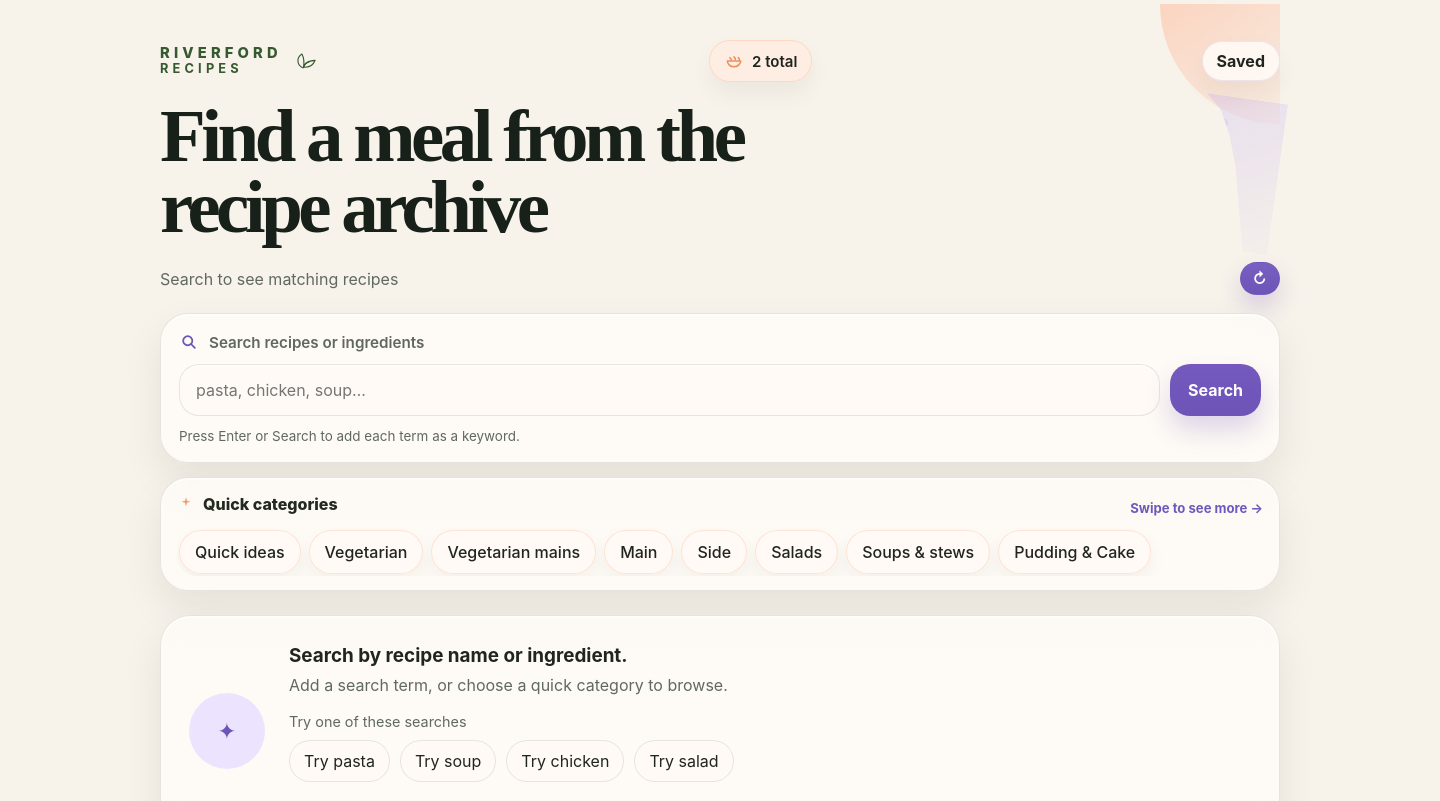
Scenario: App › shows recipes when a quick category is selected without ingredient chips
Expected: the text "2 total" is shown, [709,40,812,82]
What coordinates should you click on to do the following:
click the button "Quick ideas"
I would click on:
 (240, 552)
Its box is [179,530,301,574].
(page scrolled)
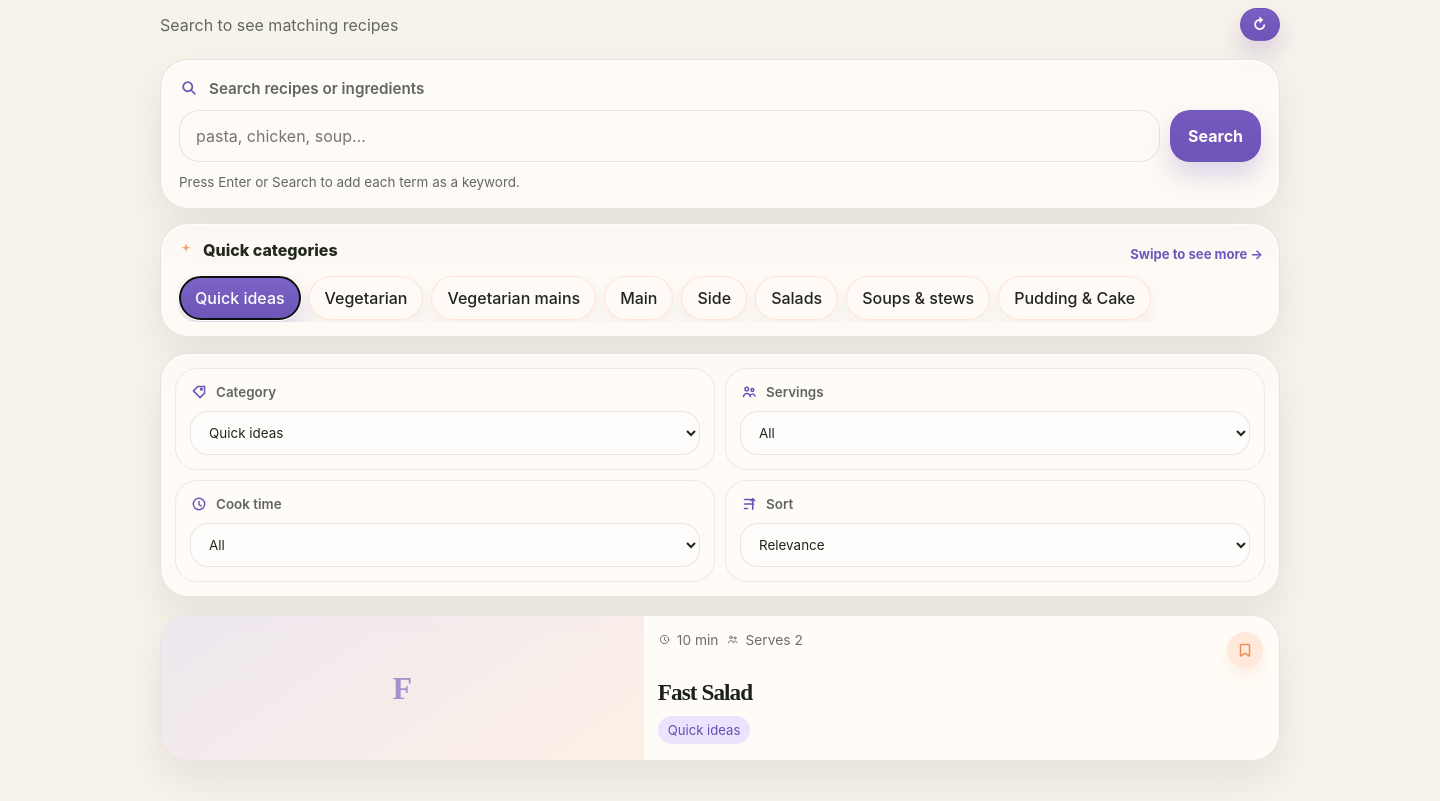
Expected: the link "Fast Salad" is shown, [658,680,752,706]
